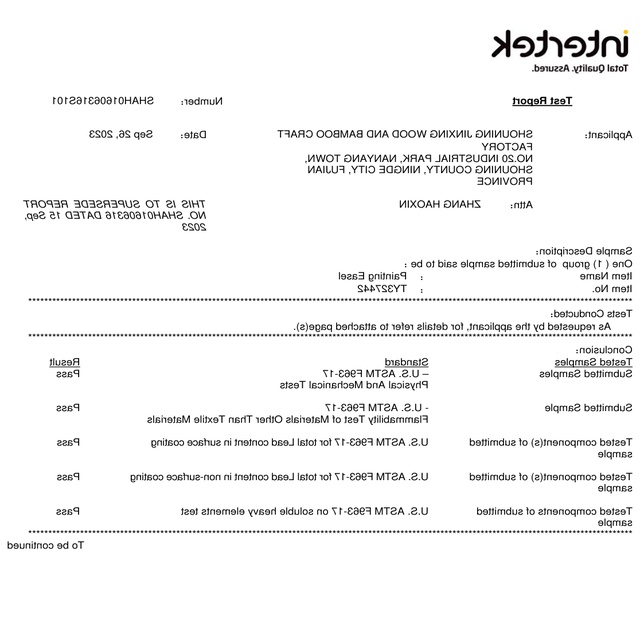intertek: (483, 23, 633, 59)
